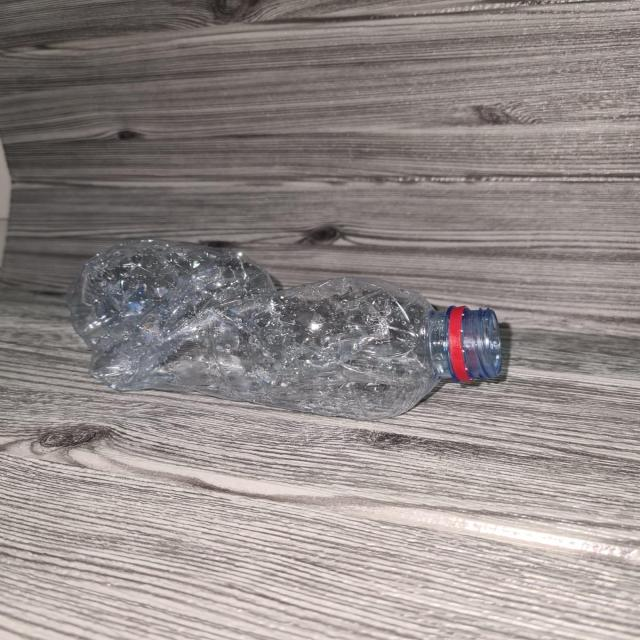bottle: (63, 238, 507, 410)
